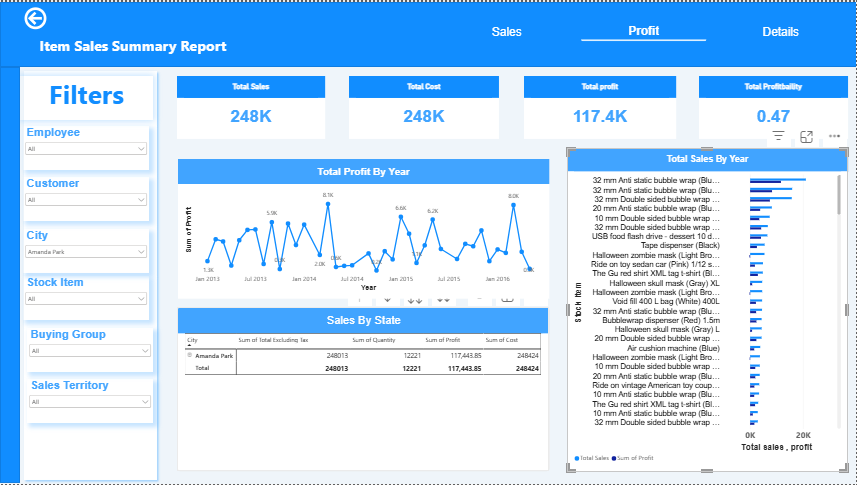

This screenshot's page, from the dashboard's own definition file:
{"tool":"powerbi","page":{"name":"Profit","canvas":[1920,1080],"ordinal":1},"visuals":[{"type":"pivotTable","title":"Sales By State","fields":{"Rows":["DimCity.City","DimCity.State Province"],"Values":["Sum(FactSale.Total Excluding Tax)","Sum(FactSale.Quantity)","Sum(FactSale.Profit)","Sum(FactSale.Cost)"]},"box":[395.7,683,835,368.3],"z":0},{"type":"card","title":"Total Sales","fields":{"Values":["Sum(FactSale.Total Excluding Tax)"]},"box":[396.6,165.8,331.6,141.2],"z":1000},{"type":"shape","box":[0,0,1920.2,145.6],"z":2000},{"type":"shape","box":[44.8,145.6,315.9,934.4],"z":3000},{"type":"slicer","fields":{"Values":["DimEmpolyee.Employee"]},"box":[51.1,278.7,283,97.9],"z":4000},{"type":"textbox","box":[44.8,165.8,298,98.6],"z":5000},{"type":"shape","box":[0,145.6,44.8,932.1],"z":6000},{"type":"textbox","box":[44.8,73.9,506.4,47.1],"z":7000},{"type":"card","title":"Total Profitbaility","fields":{"Values":["FactSale.Profitbaility"]},"box":[1566.2,165.8,333.9,141.2],"z":8000},{"type":"card","title":"Total profit","fields":{"Values":["Sum(FactSale.Profit)"]},"box":[1174.1,165.8,340.6,141.2],"z":9000},{"type":"card","title":"Total Cost","fields":{"Values":["Sum(FactSale.Cost)"]},"box":[782,165.8,336.1,141.2],"z":10000},{"type":"clusteredBarChart","title":" Total Sales By Year","fields":{"Category":["DimStockItem.Stock Item"],"Y":["Sum(FactSale.Total Excluding Tax)","Sum(FactSale.Profit)"]},"box":[1270.5,327.1,629.6,726],"z":11000},{"type":"lineChart","title":" Total Profit By Year","fields":{"Category":["DimData.Date.Variation.Date Hierarchy.Year","DimData.Date.Variation.Date Hierarchy.Quarter","DimData.Date.Variation.Date Hierarchy.Month","DimData.Date.Variation.Date Hierarchy.Day"],"Y":["Sum(FactSale.Profit)"]},"box":[397.9,351.1,831.9,312.8],"z":12000},{"type":"slicer","fields":{"Values":["DimCustomer.Customer"]},"box":[51.1,391.5,283,97.9],"z":13000},{"type":"slicer","fields":{"Values":["DimCity.City"]},"box":[51.1,508.5,283,97.9],"z":14000},{"type":"slicer","fields":{"Values":["DimStockItem.Stock Item"]},"box":[51.1,614.9,283,97.9],"z":15000},{"type":"slicer","fields":{"Values":["DimCustomer.Buying Group"]},"box":[59.6,729.8,283,97.9],"z":16000},{"type":"slicer","fields":{"Values":["DimCity.Sales Territory"]},"box":[59.6,844.7,283,97.9],"z":17000},{"type":"actionButton","box":[0,0,159.6,72.3],"z":18000},{"type":"pageNavigator","box":[985.1,36.2,914.9,61.7],"z":19000}]}

Visuals, with their boxes on the page's 1920x1080 design canvas (x1, y1, x2, y2). These are canvas units, not pixel positions in the 857x485 screenshot, which may show the page scaled, cropped or inside an application window:
"Sales By State" pivotTable: left=396, top=683, right=1231, bottom=1051
"Total Sales" card: left=397, top=166, right=728, bottom=307
shape: left=0, top=0, right=1920, bottom=146
shape: left=45, top=146, right=361, bottom=1080
slicer - DimEmpolyee.Employee: left=51, top=279, right=334, bottom=377
textbox: left=45, top=166, right=343, bottom=264
shape: left=0, top=146, right=45, bottom=1078
textbox: left=45, top=74, right=551, bottom=121
"Total Profitbaility" card: left=1566, top=166, right=1900, bottom=307
"Total profit" card: left=1174, top=166, right=1515, bottom=307
"Total Cost" card: left=782, top=166, right=1118, bottom=307
" Total Sales By Year" clusteredBarChart: left=1270, top=327, right=1900, bottom=1053
" Total Profit By Year" lineChart: left=398, top=351, right=1230, bottom=664
slicer - DimCustomer.Customer: left=51, top=392, right=334, bottom=489
slicer - DimCity.City: left=51, top=508, right=334, bottom=606
slicer - DimStockItem.Stock Item: left=51, top=615, right=334, bottom=713
slicer - DimCustomer.Buying Group: left=60, top=730, right=343, bottom=828
slicer - DimCity.Sales Territory: left=60, top=845, right=343, bottom=943
actionButton: left=0, top=0, right=160, bottom=72
pageNavigator: left=985, top=36, right=1900, bottom=98
